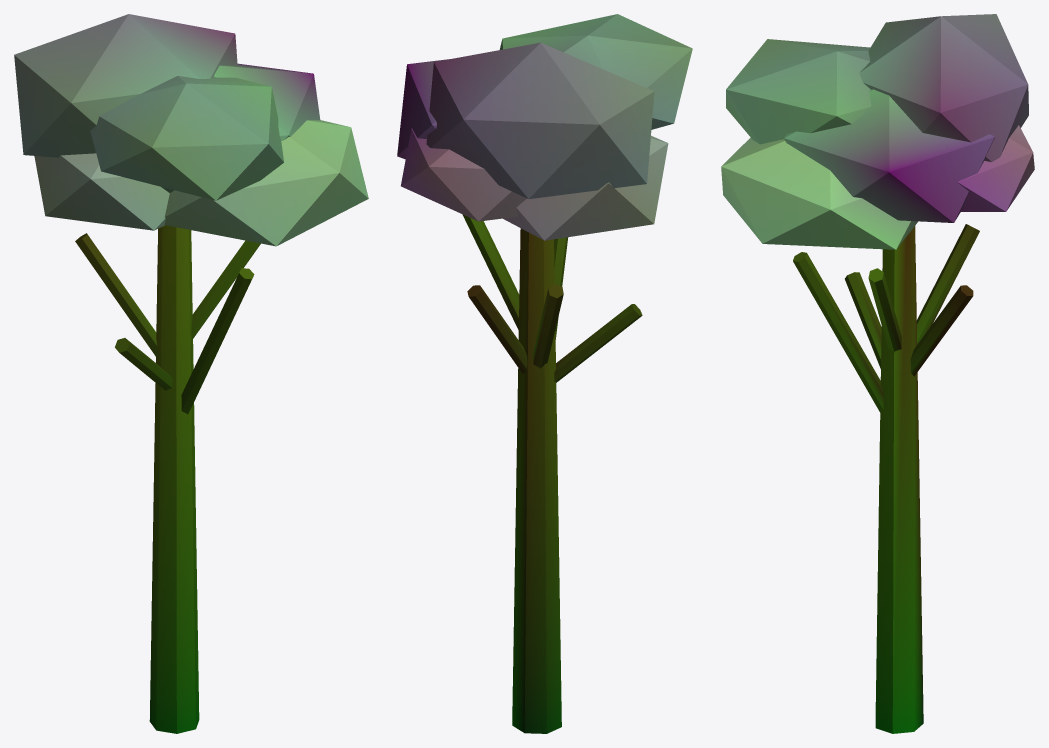
The model's file is broadleaf_02.glb.
3 views of the same model, side by side, from view 1: azimuth 30°, elevation 25°; view 2: azimuth 150°, elevation 25°; view 3: azimuth 270°, elevation 25° (orthographic).
Visible parts, largest first — view 1: broadleaf_02; view 2: broadleaf_02; view 3: broadleaf_02.
Boxes of the visible parts, x1,y1,x2,y2 form: broadleaf_02: [14, 14, 368, 733]; broadleaf_02: [397, 14, 692, 733]; broadleaf_02: [721, 14, 1034, 733].
Size of the model in its own units: 2.18 by 5.34 by 2.18.
